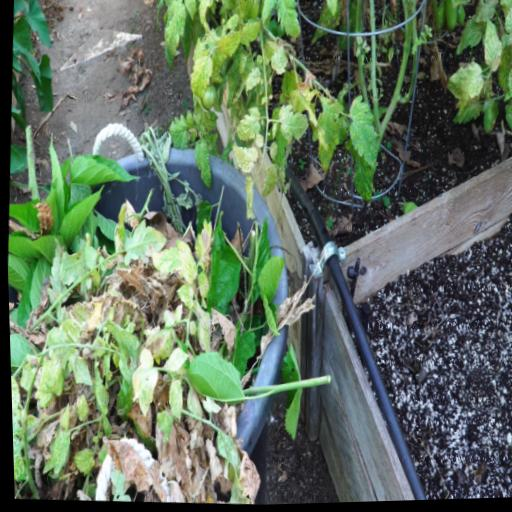Spider Mites: (308, 101, 345, 178), (344, 95, 380, 171), (346, 141, 374, 205), (444, 60, 484, 103), (37, 428, 70, 477), (100, 316, 138, 357), (161, 0, 186, 58), (275, 102, 309, 144), (187, 46, 213, 99), (480, 19, 503, 75), (190, 138, 213, 191), (166, 108, 194, 151), (172, 237, 197, 285), (133, 366, 156, 418), (273, 0, 302, 41), (453, 17, 481, 59), (222, 57, 243, 110), (233, 104, 260, 144), (214, 25, 242, 59), (228, 144, 257, 176), (239, 175, 256, 223), (163, 379, 180, 424), (68, 446, 92, 477), (469, 0, 498, 25), (499, 0, 512, 50), (268, 45, 288, 77), (242, 66, 261, 98), (71, 390, 89, 423), (239, 20, 260, 48), (259, 0, 279, 28), (173, 283, 192, 311), (505, 59, 512, 109), (181, 0, 196, 21), (223, 14, 238, 31), (217, 0, 238, 11)
